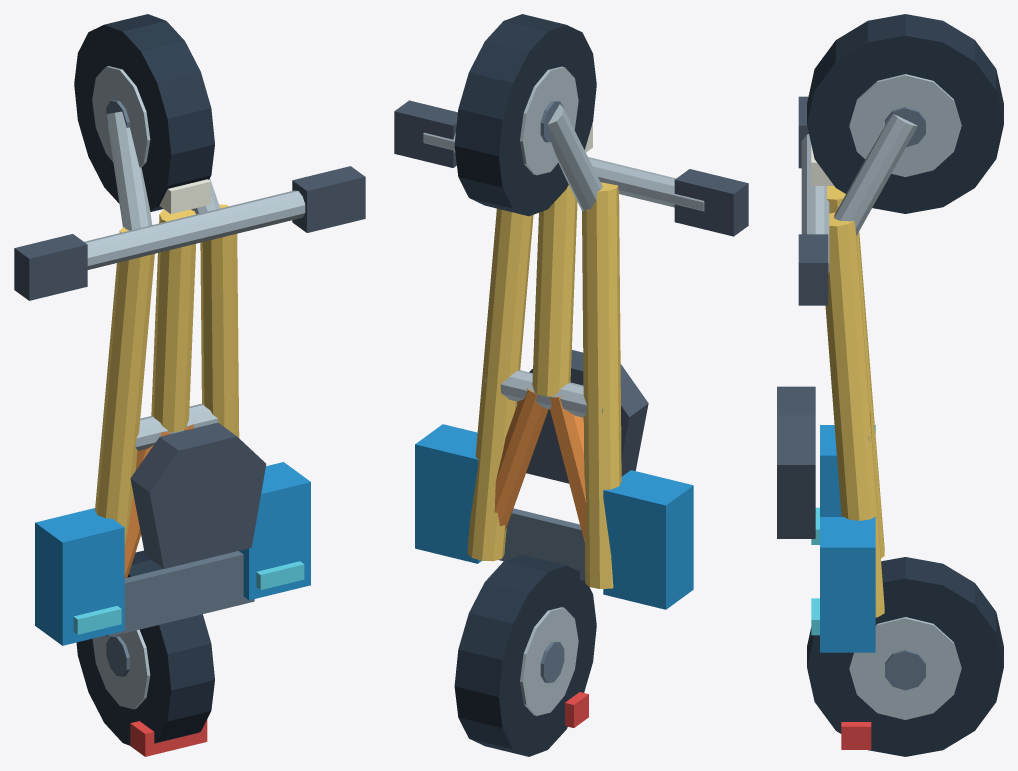
Rendered from Bicycle.glb.
3 views of the same model, side by side, from view 1: azimuth 30°, elevation 25°; view 2: azimuth 150°, elevation 25°; view 3: azimuth 270°, elevation 25° (orthographic).
Visible parts, largest first — view 1: Bicycle; view 2: Bicycle; view 3: Bicycle.
Part boxes in pixels (x1,y1,x2,y2): Bicycle: (14,14,365,756); Bicycle: (394,14,748,756); Bicycle: (777,14,1003,756).
Bounding box in the file's own units: 0.92 × 1.86 × 0.53.
